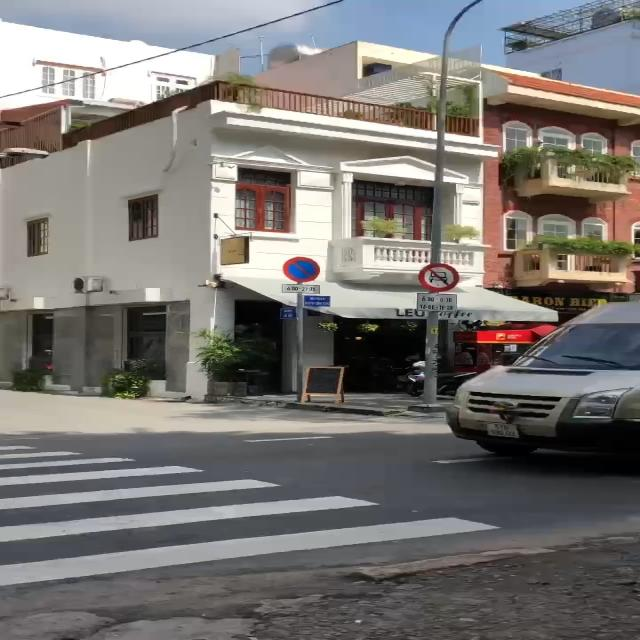Bien bao cam do xe: (282, 255, 324, 284)
Bien bao cam xe oto: (416, 260, 459, 293)
